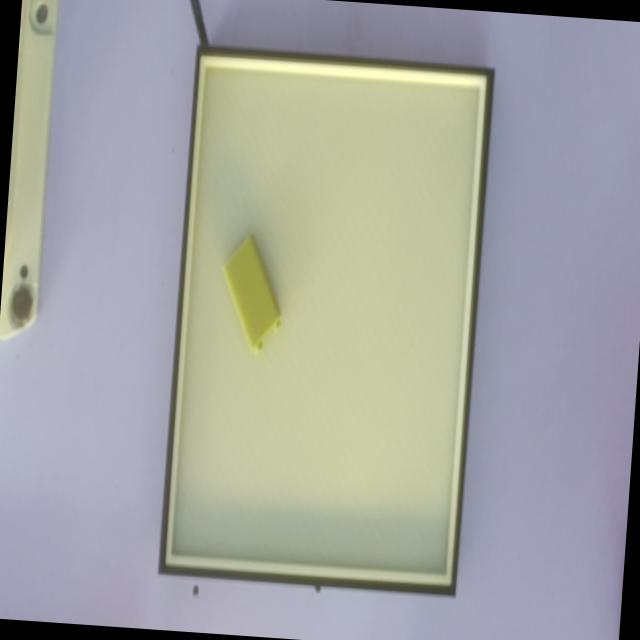bateria: (221, 231, 283, 356)
mesa: (158, 45, 494, 597)
